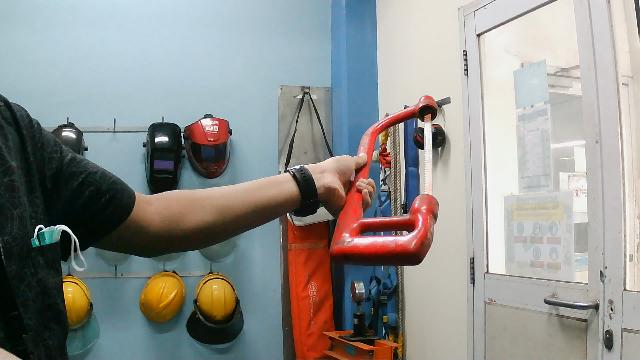gergaji_besi: (319, 83, 448, 273)
